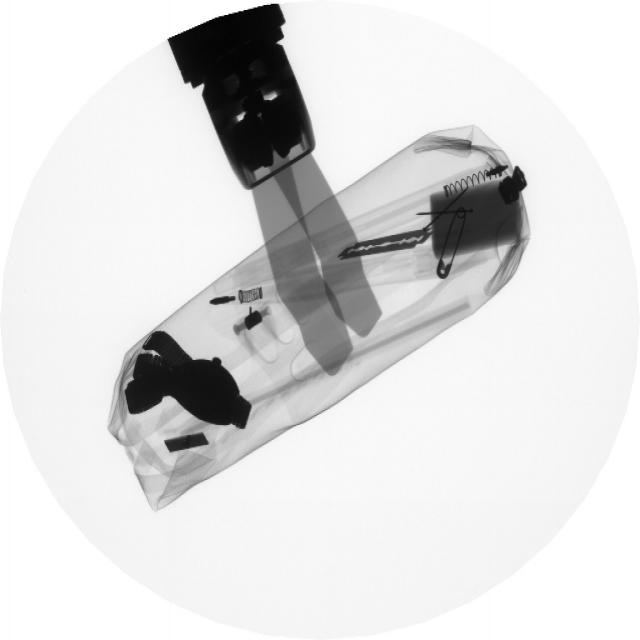BLADE: (334, 220, 444, 268)
